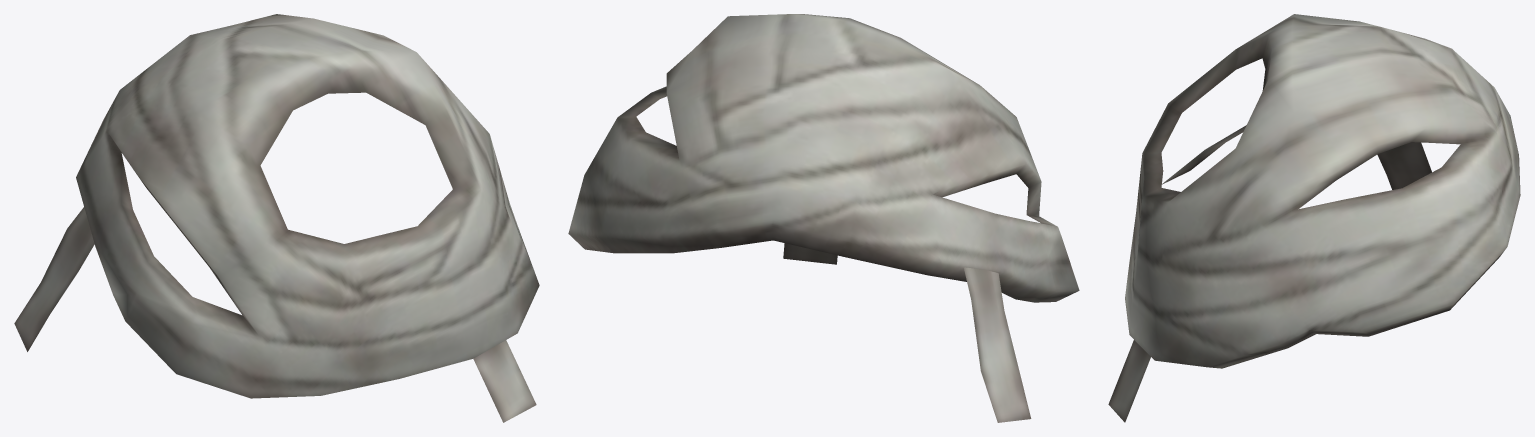
Rendered from mummyHead.glb.
3 renders of one model, left to right at view 1: azimuth 30°, elevation 25°; view 2: azimuth 150°, elevation 25°; view 3: azimuth 270°, elevation 25°, orthographic. The views are drawn at different scales.
Parts seen in each view (by area): view 1: mummyHead; view 2: mummyHead; view 3: mummyHead.
Boxes of the visible parts, bbox=[...] form: mummyHead: bbox=[14, 14, 539, 422]; mummyHead: bbox=[568, 14, 1079, 422]; mummyHead: bbox=[1108, 14, 1520, 422].
Bounding box in the file's own units: 0.3348 × 0.2388 × 0.2827.
Materials: 1 (1 with a texture image).
